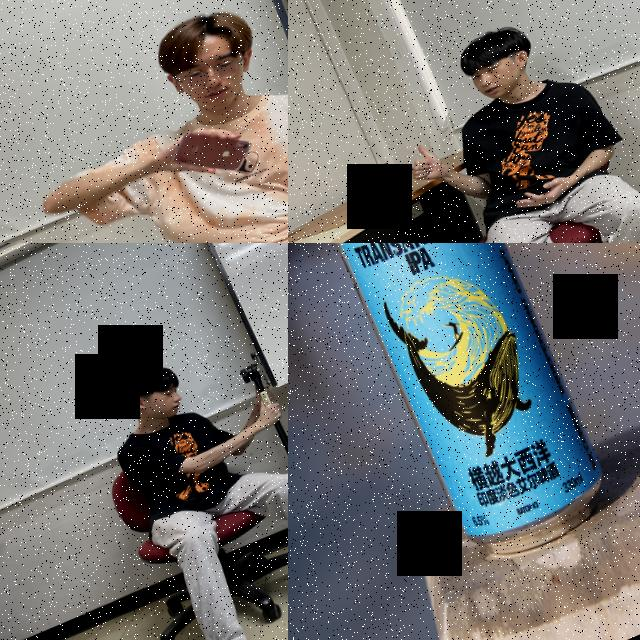can: (308, 243, 624, 573), (367, 160, 404, 207)
